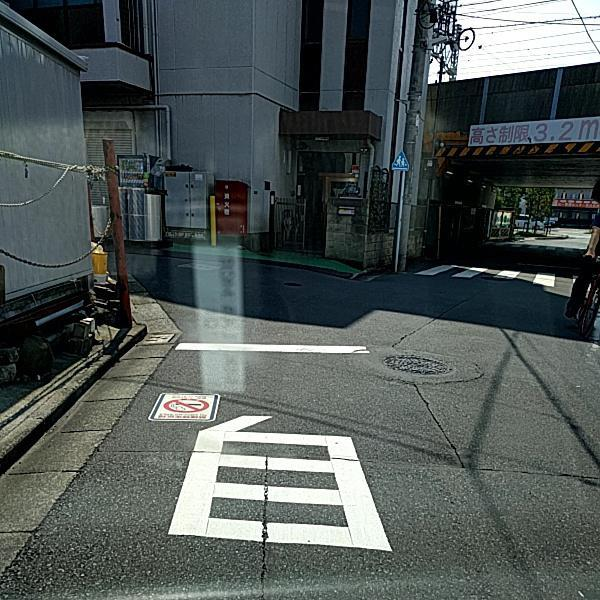D50: (379, 351, 454, 376)
